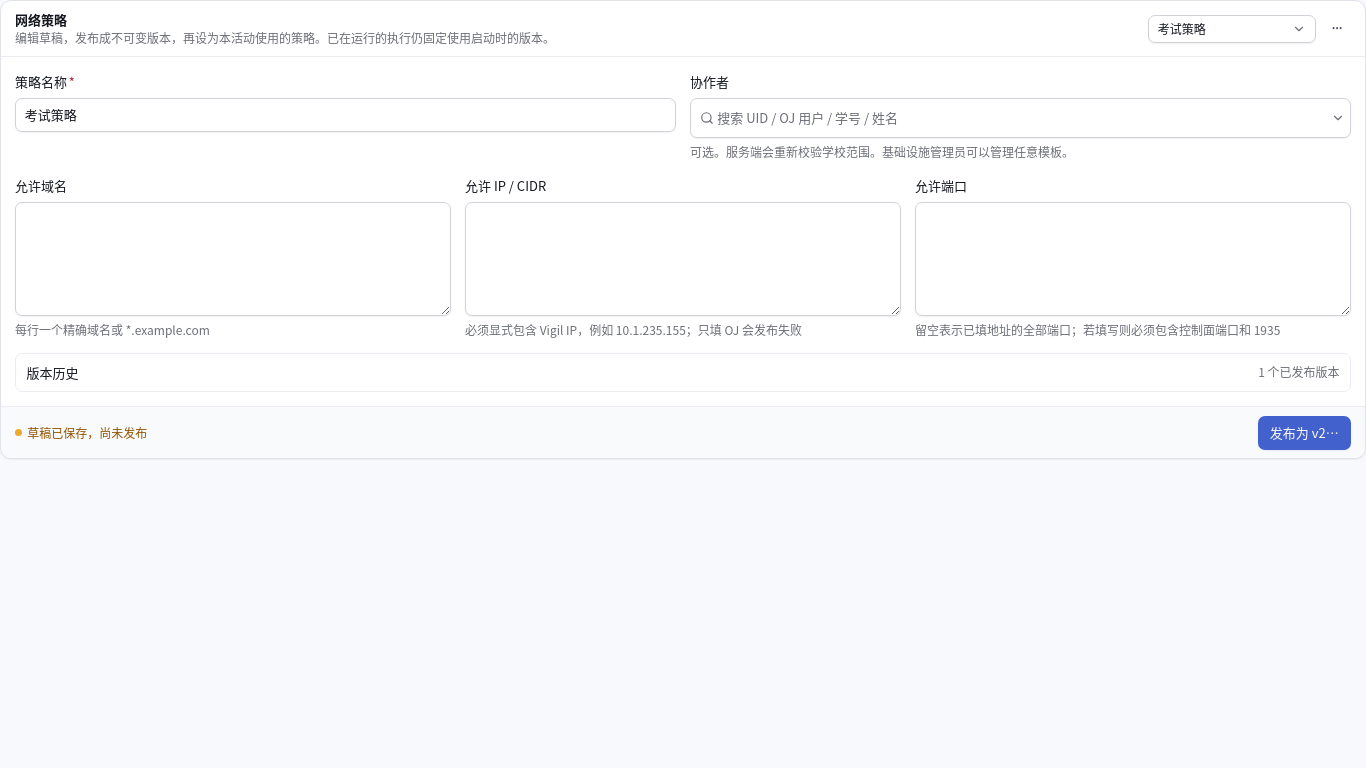
Test case: exam event policy step › 版本历史汇总已发布版本，并可查看未使用版本的规则
Expected: the field showing "考试策略" is shown, [15,98,676,132]
Step 1. Click the heading "版本历史 1 个已发布版本" → (53, 372), box [26,363,1340,382]
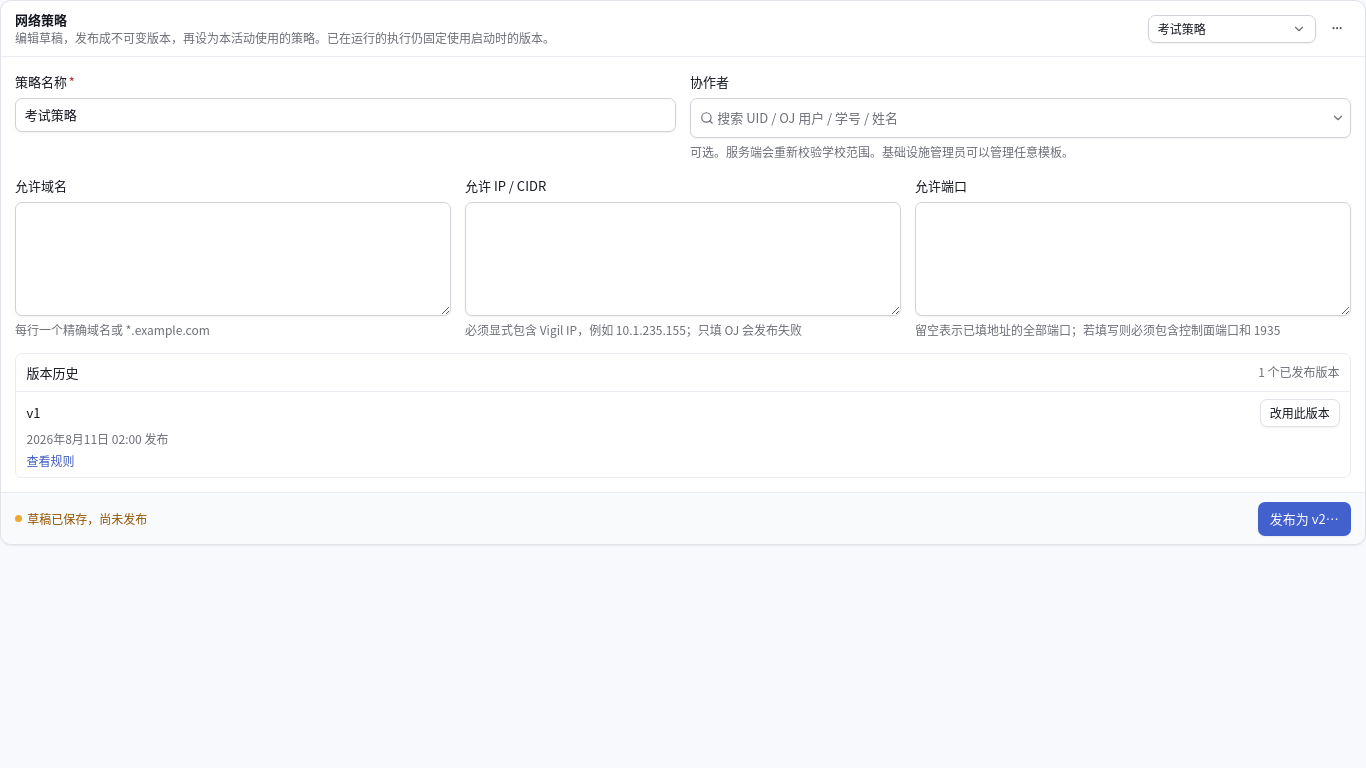
Now the button "改用此版本" is shown, box [1260,399,1340,427]
Step 2. Click the heading "查看规则" → (50, 460), box [26,452,74,469]
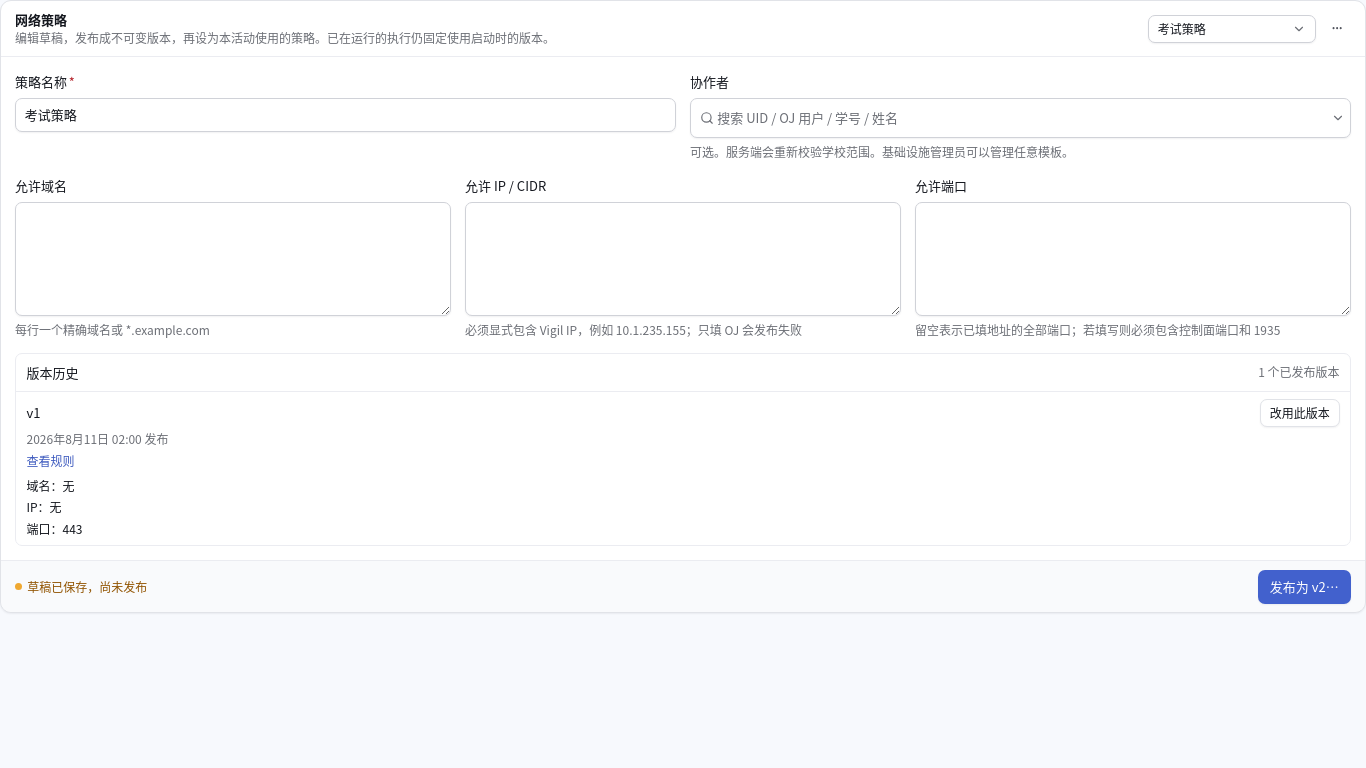
Now the text "查看规则" shows "端口：443", box [26,520,82,537]
